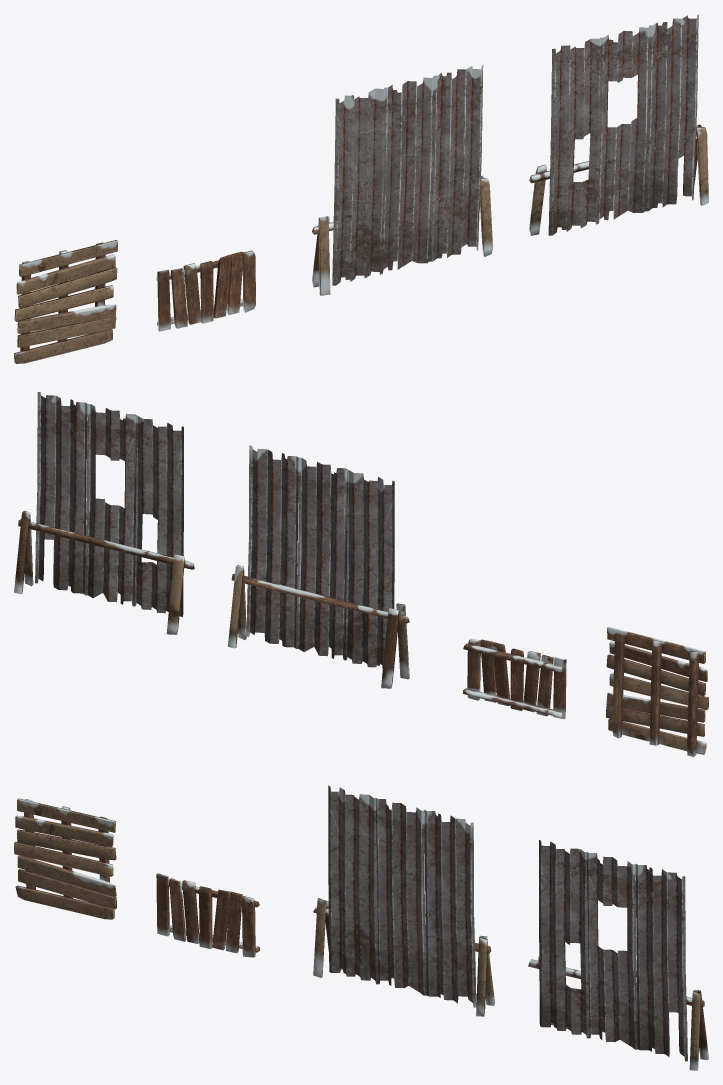
File: KindledSpirits-Barricades.fbx
3 renders of one model, top to bottom at view 1: azimuth 30°, elevation 25°; view 2: azimuth 150°, elevation 25°; view 3: azimuth 330°, elevation 25°, orthographic.
Parts seen in each view (by area): view 1: Barricade03-LOD0, Barricade04-LOD0, Barricade01-LOD0, Barricade02-LOD0; view 2: Barricade03-LOD0, Barricade04-LOD0, Barricade01-LOD0, Barricade02-LOD0; view 3: Barricade03-LOD0, Barricade04-LOD0, Barricade01-LOD0, Barricade02-LOD0.
Boxes of the visible parts, x1,y1,x2,y2 form: Barricade03-LOD0: [312, 65, 492, 295]; Barricade04-LOD0: [529, 14, 708, 235]; Barricade01-LOD0: [14, 240, 118, 363]; Barricade02-LOD0: [156, 250, 255, 331]; Barricade03-LOD0: [228, 445, 409, 688]; Barricade04-LOD0: [14, 392, 194, 634]; Barricade01-LOD0: [606, 627, 708, 756]; Barricade02-LOD0: [463, 638, 566, 719]; Barricade03-LOD0: [313, 785, 494, 1016]; Barricade04-LOD0: [528, 840, 708, 1070]; Barricade01-LOD0: [14, 798, 116, 919]; Barricade02-LOD0: [156, 873, 259, 957].
Size of what is drawn, in the model's own units: 1501 by 409 by 71.29.
